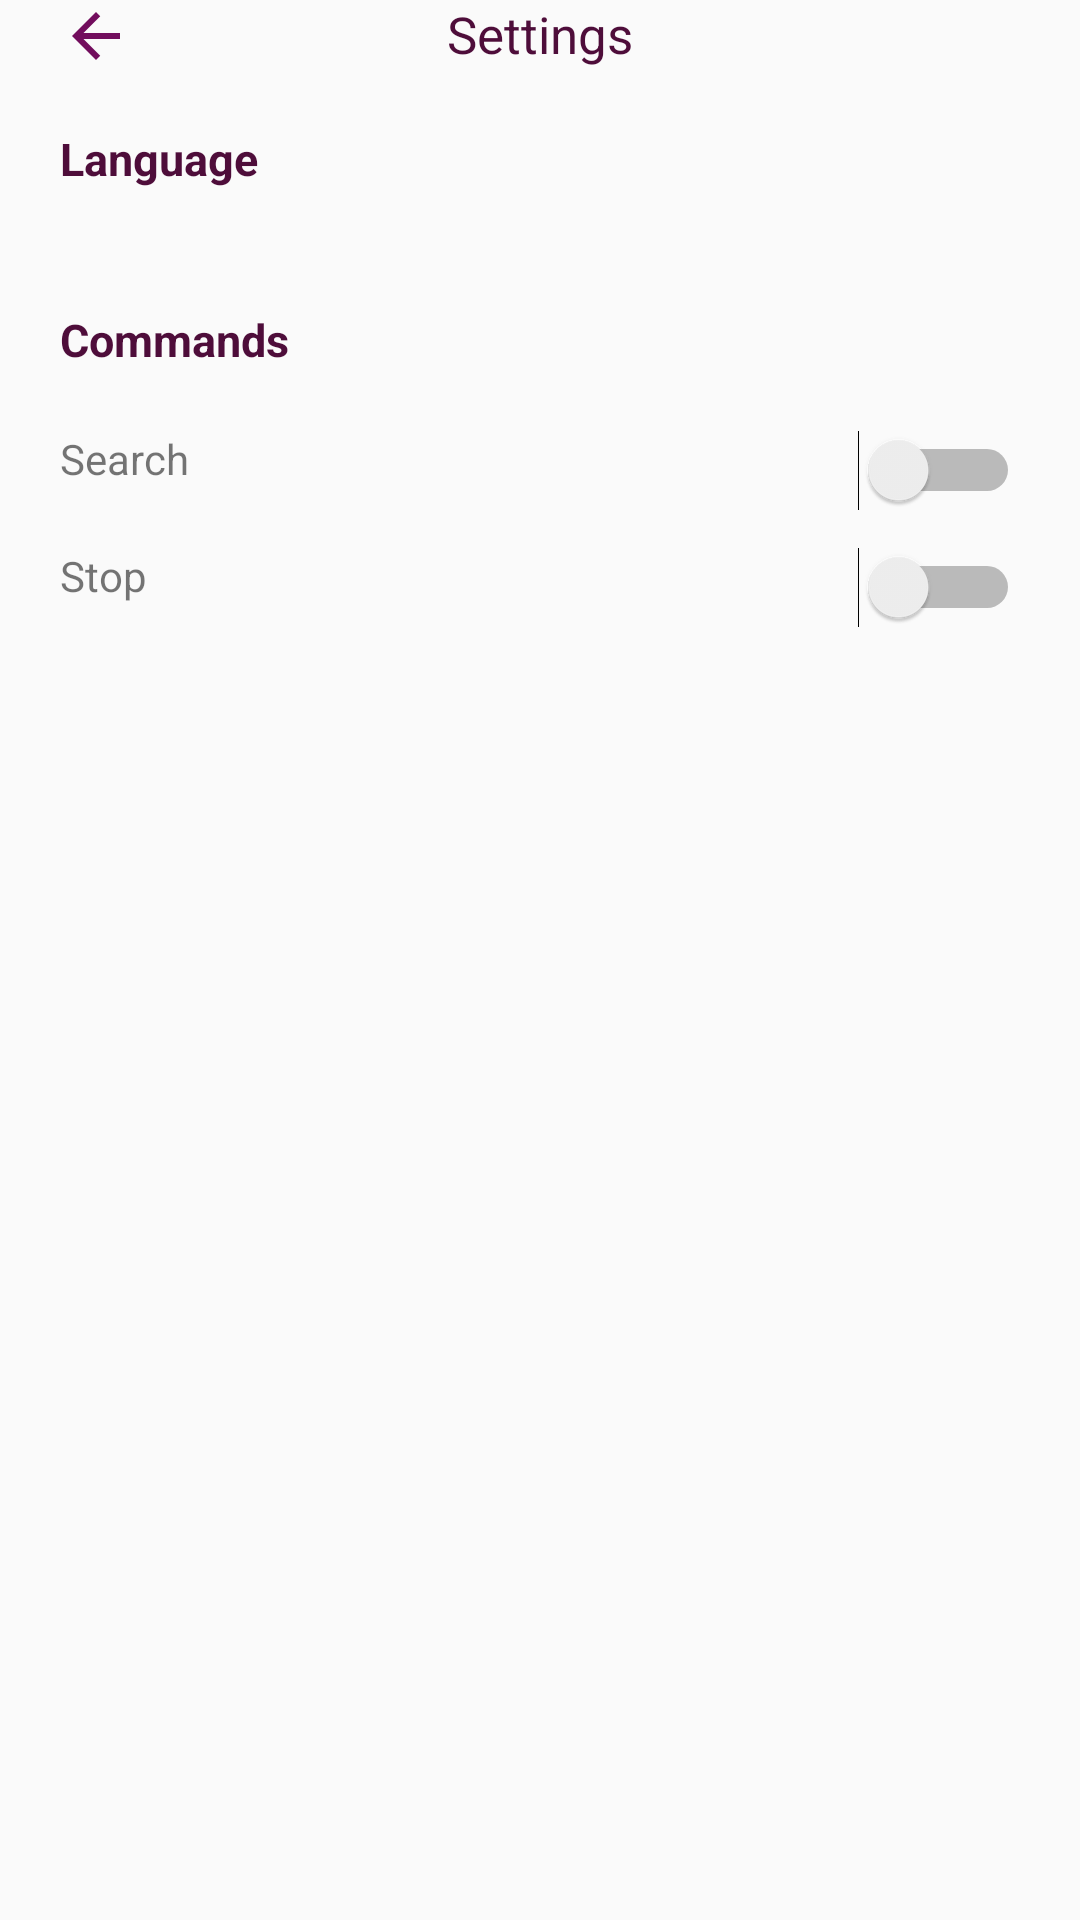

Point at icon controls on the screen. Image size 1080w x 1920h, points as point (x, y).
arrow back: point (96, 36)
